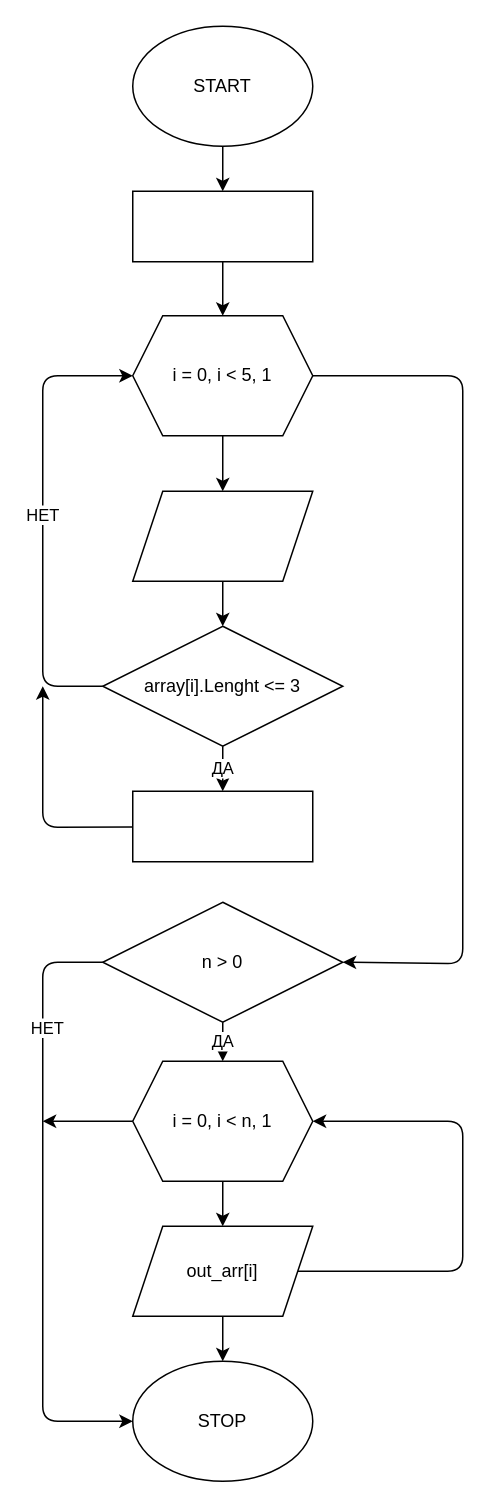
The diagram is 501 pixels wide and 1508 high, and some of its shapes have lost their labels. The shapes that lost their labels are listed below. From the top down, each one's box as (x1, y1, x2, y2) in pixels, then its label:
(131, 190, 313, 262): string array[5] string[] out_arr n=0
(131, 490, 313, 581): array[i]
(131, 790, 313, 862): out_arr[n] = array[i] n++
